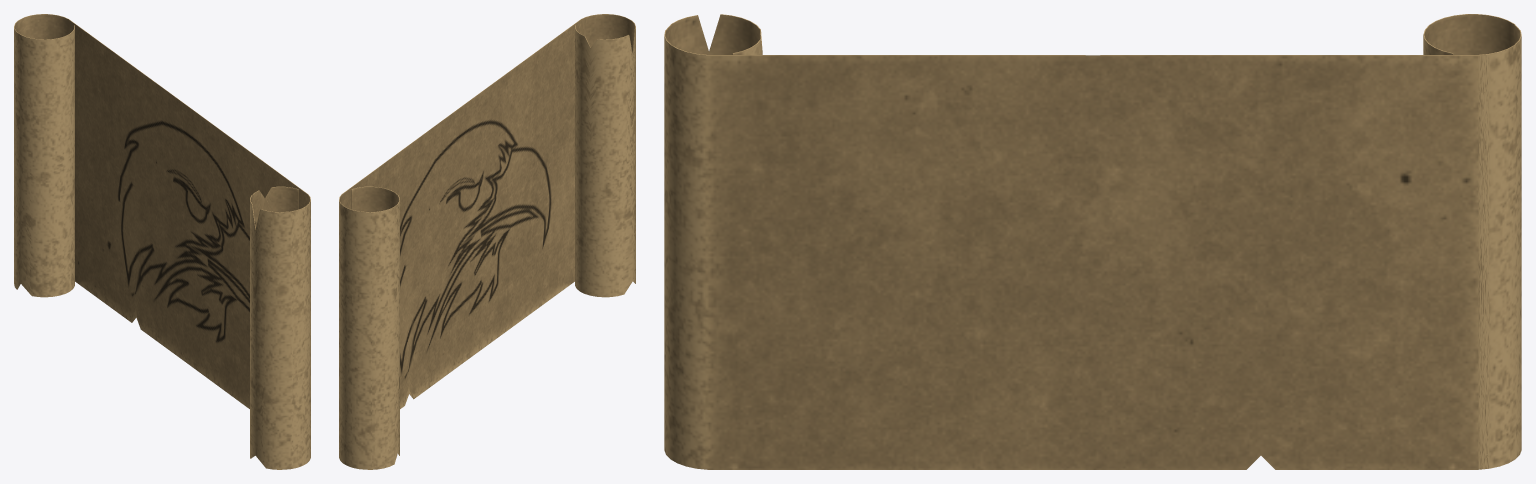
The model's file is Pergaminos_sellados_aguila.fbx.
3 views of the same model, side by side, from view 1: azimuth 30°, elevation 25°; view 2: azimuth 150°, elevation 25°; view 3: azimuth 270°, elevation 25° (orthographic). The views are drawn at different scales.
Visible parts, largest first — view 1: Plane003; view 2: Plane003; view 3: Plane003.
Boxes of the visible parts, x1,y1,x2,y2 form: Plane003: (14,14,310,469); Plane003: (339,14,635,469); Plane003: (664,14,1521,469).
Bounding box in the file's own units: 4.42 × 20.59 × 38.59.
Materials: 1 (1 with a texture image).
